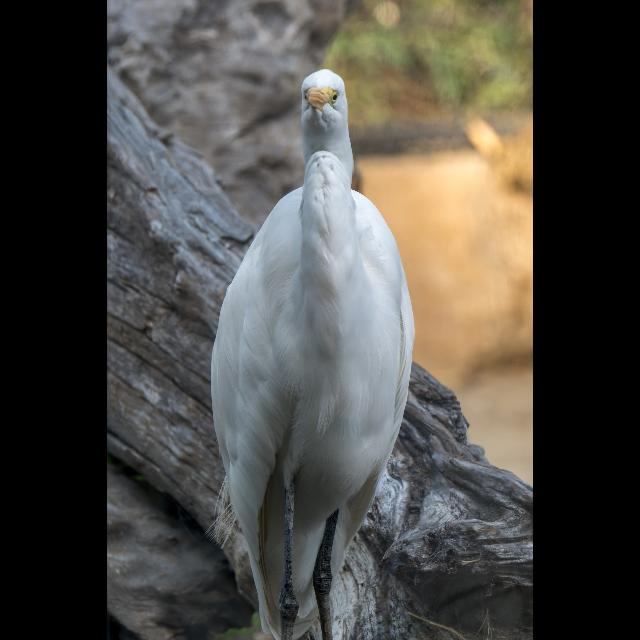egret: (206, 66, 420, 634)
